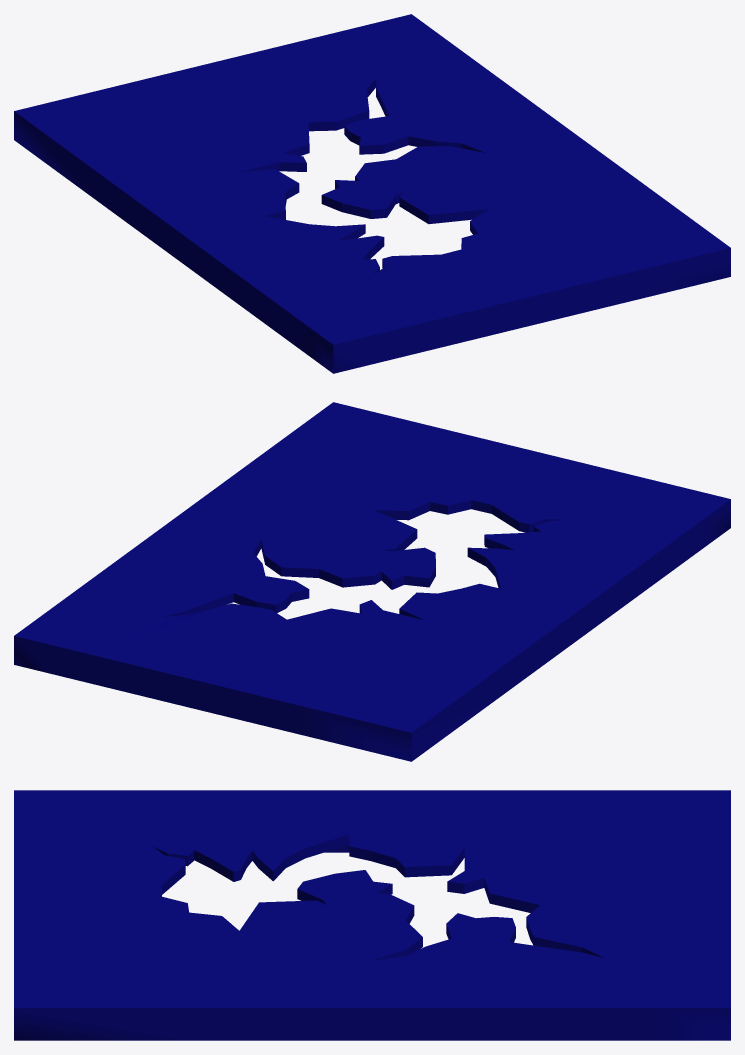
Rendered from test plafond 2.fbx.
3 renders of one model, top to bottom at view 1: azimuth 30°, elevation 25°; view 2: azimuth 150°, elevation 25°; view 3: azimuth 270°, elevation 25°, orthographic. The views are drawn at different scales.
Parts seen in each view (by area): view 1: W1_Plafond_Sale_2_002; view 2: W1_Plafond_Sale_2_002; view 3: W1_Plafond_Sale_2_002.
Boxes of the visible parts, box(x1,y1,x2,y2) form: W1_Plafond_Sale_2_002: box(14, 14, 730, 373); W1_Plafond_Sale_2_002: box(14, 402, 730, 761); W1_Plafond_Sale_2_002: box(14, 790, 730, 1040).
Size of the model in its own units: 2300 by 160 by 3200.
